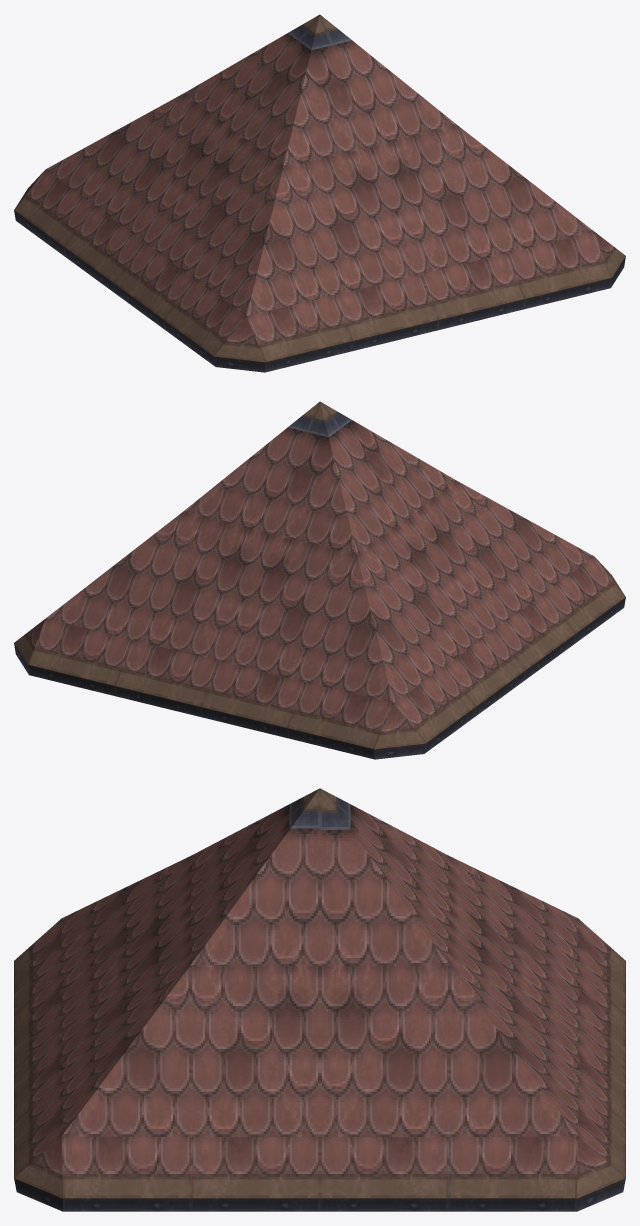
File: roof_red_square.glb
3 views of the same model, one above another, from view 1: azimuth 30°, elevation 25°; view 2: azimuth 150°, elevation 25°; view 3: azimuth 270°, elevation 25° (orthographic). The views are drawn at different scales.
Visible parts, largest first — view 1: roof_red_square; view 2: roof_red_square; view 3: roof_red_square.
Boxes of the visible parts, x1,y1,x2,y2 form: roof_red_square: [14, 14, 625, 372]; roof_red_square: [14, 401, 625, 759]; roof_red_square: [14, 788, 625, 1211].
Bounding box in the file's own units: 4.76 × 2.54 × 4.76.
1 material, 1 textured.
